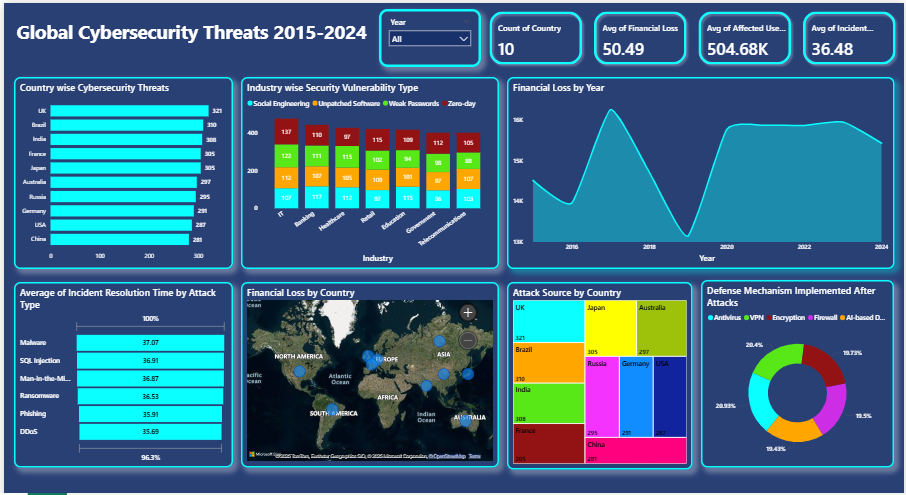

The dashboard page shown, as its layout file describes it:
{"tool":"powerbi","page":{"name":"Page 1","canvas":[1800,1000],"ordinal":0},"visuals":[{"type":"barChart","title":"Country wise Cybersecurity Threats","fields":{"Category":["Global_Cybersecurity_Threats.Country"],"Y":["CountNonNull(Global_Cybersecurity_Threats.Country)"]},"box":[19.6,148.2,437.5,383.9],"z":0},{"type":"columnChart","title":"Industry wise Security Vulnerability Type","fields":{"Category":["Global_Cybersecurity_Threats.Target Industry"],"Y":["CountNonNull(Global_Cybersecurity_Threats.Country)"],"Series":["Global_Cybersecurity_Threats.Security Vulnerability Type"]},"box":[473.2,148.2,516.1,383.9],"z":1000},{"type":"areaChart","title":"Financial Loss by Year","fields":{"Category":["Global_Cybersecurity_Threats.Year"],"Y":["Sum(Global_Cybersecurity_Threats.Financial Loss (in Million $))"]},"box":[1005.4,148.2,775,383.9],"z":2000},{"type":"map","title":"Financial Loss by Country","fields":{"Category":["Global_Cybersecurity_Threats.Country"],"Size":["Sum(Global_Cybersecurity_Threats.Financial Loss (in Million $))"]},"box":[473.2,557.1,516.1,371.4],"z":3000},{"type":"cardVisual","fields":{"Data":["Count(Global_Cybersecurity_Threats.Country)","Avg(Global_Cybersecurity_Threats.Financial Loss (in Million $))","Avg(Global_Cybersecurity_Threats.Number of Affected Users)","Avg(Global_Cybersecurity_Threats.Incident Resolution Time (in Hours))"]},"box":[954,0,846,140],"z":4000},{"type":"textbox","box":[20,13.3,741.7,80],"z":5000},{"type":"slicer","fields":{"Values":["Global_Cybersecurity_Threats.Year"]},"box":[750,12.5,203.6,116.1],"z":6000},{"type":"donutChart","title":"Defense Mechanism Implemented After Attacks","fields":{"Category":["Global_Cybersecurity_Threats.Defense Mechanism Used"],"Y":["CountNonNull(Global_Cybersecurity_Threats.Country)"]},"box":[1394.6,553.6,385.7,375],"z":7000},{"type":"funnel","title":"Average of Incident Resolution Time by Attack Type","fields":{"Category":["Global_Cybersecurity_Threats.Attack Type"],"Y":["Avg(Global_Cybersecurity_Threats.Incident Resolution Time (in Hours))"]},"box":[19.6,557.1,437.5,371.4],"z":8000},{"type":"treemap","title":"Attack Source by Country","fields":{"Group":["Global_Cybersecurity_Threats.Country"],"Values":["CountNonNull(Global_Cybersecurity_Threats.Attack Source)"]},"box":[1005.4,557.1,371.4,375],"z":8001}]}

Visuals, with their boxes in screenshot pixels (x1, y1, x2, y2), scaled from the page's 1800x1000 canvas onto the 906x495 screenshot:
"Country wise Cybersecurity Threats" barChart: (10, 73, 230, 263)
"Industry wise Security Vulnerability Type" columnChart: (238, 73, 498, 263)
"Financial Loss by Year" areaChart: (506, 73, 896, 263)
"Financial Loss by Country" map: (238, 276, 498, 460)
cardVisual - Count(Global_Cybersecurity_Threats.Country) x Avg(Global_Cybersecurity_Threats.Financial Loss (in Million $)): (480, 0, 905, 69)
textbox: (10, 7, 383, 46)
slicer - Global_Cybersecurity_Threats.Year: (378, 6, 480, 64)
"Defense Mechanism Implemented After Attacks" donutChart: (702, 274, 896, 460)
"Average of Incident Resolution Time by Attack Type" funnel: (10, 276, 230, 460)
"Attack Source by Country" treemap: (506, 276, 693, 461)
